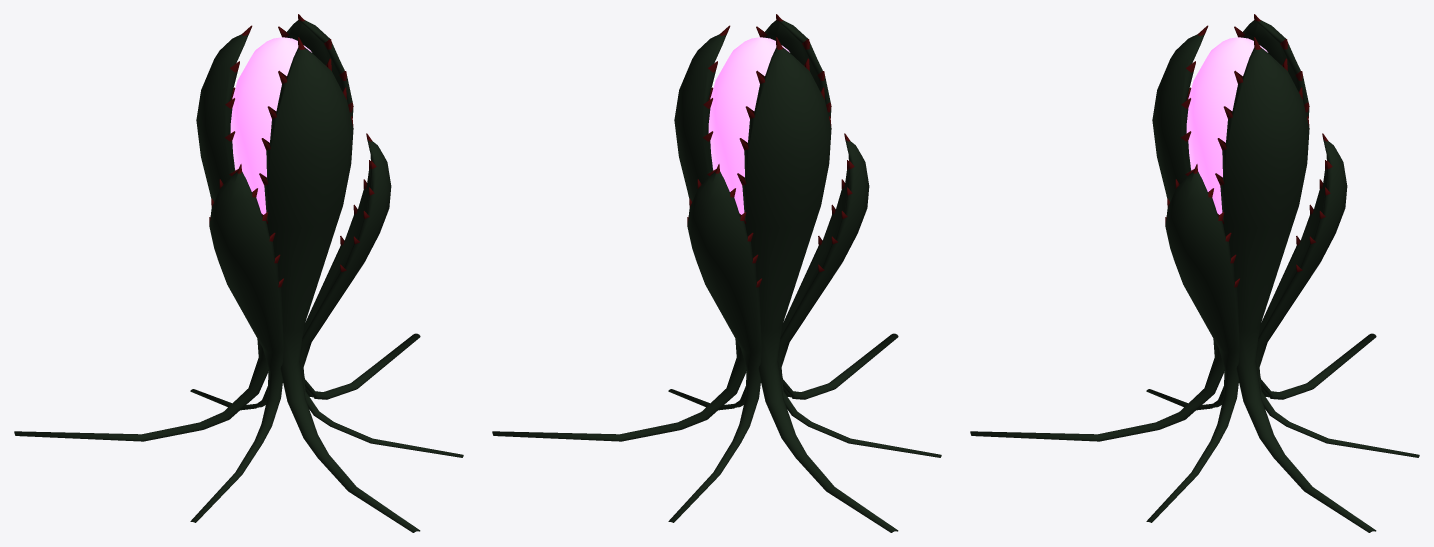
File: Plant_04_closed_UV.fbx
3 views of the same model, side by side, from view 1: azimuth 30°, elevation 25°; view 2: azimuth 150°, elevation 25°; view 3: azimuth 270°, elevation 25° (orthographic).
Parts seen in each view (by area): view 1: Plant_04_closed_UV; view 2: Plant_04_closed_UV; view 3: Plant_04_closed_UV.
Part boxes in pixels (x1,y1,x2,y2): Plant_04_closed_UV: [14, 14, 463, 532]; Plant_04_closed_UV: [492, 14, 941, 532]; Plant_04_closed_UV: [970, 14, 1419, 532].
Bounding box in the file's own units: 354 × 340 × 360.
